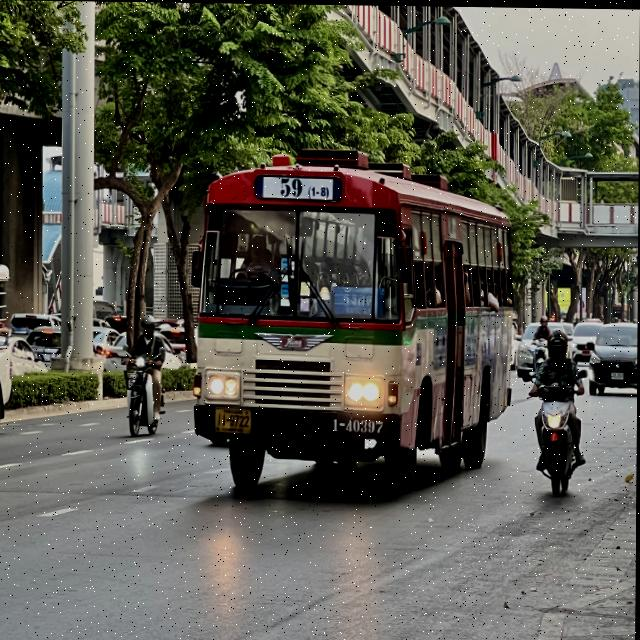BMTA-bus: (181, 135, 521, 521)
Bus Line Number: (257, 168, 343, 204)
Bus Side Number: (327, 412, 388, 436)
Destination Sign: (330, 282, 384, 316)
